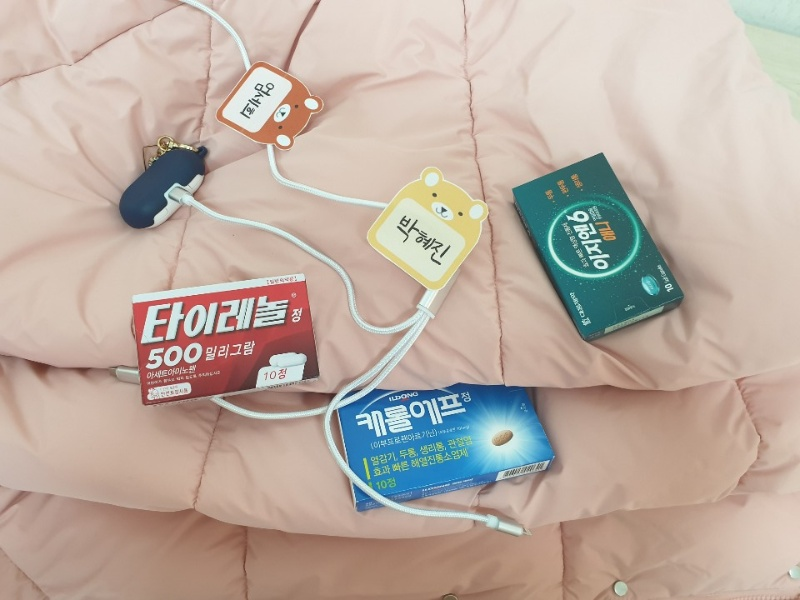carolF: (336, 386, 555, 511)
ezn: (512, 152, 685, 341)
tylenol: (131, 274, 322, 405)
